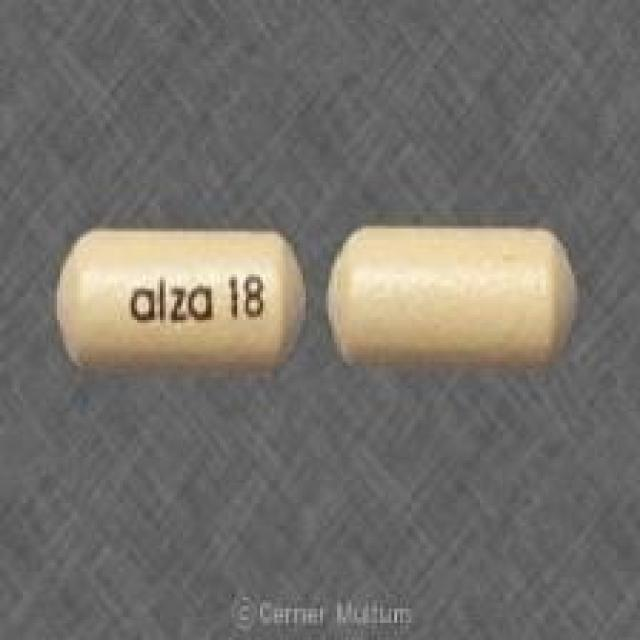Medicine: (32, 190, 598, 441)
